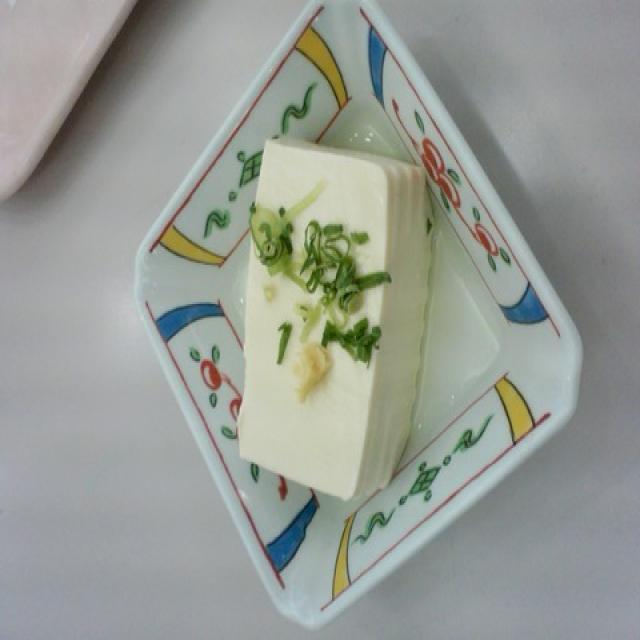豆腐料理: (137, 0, 580, 624)
